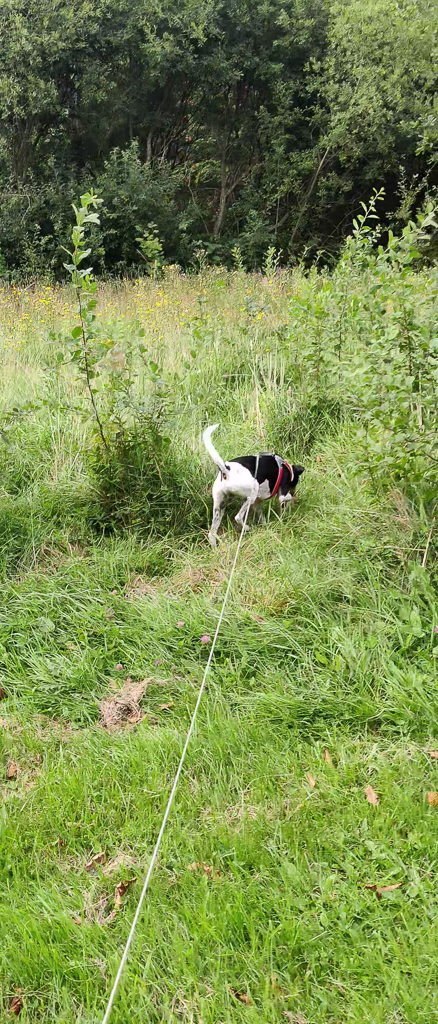Dog: (193, 415, 314, 557)
